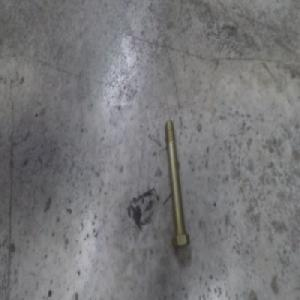Bolt: (163, 118, 190, 248)
